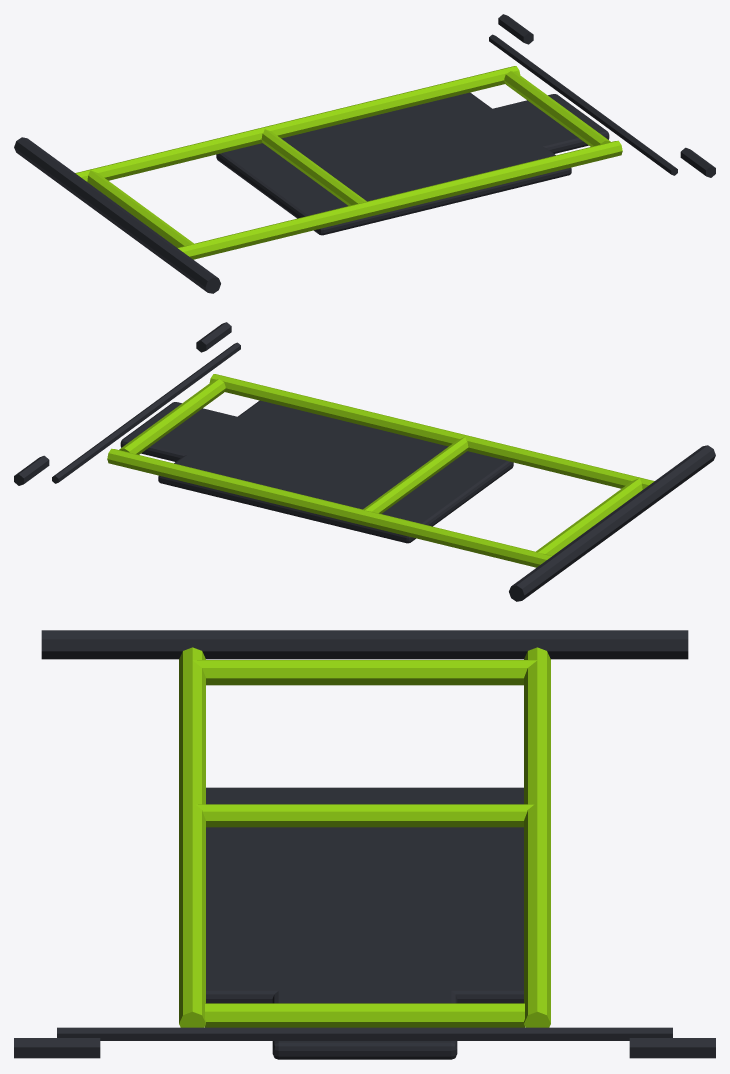
Rendered from frame.obj.
The picture shows the model from 3 angles, top to bottom: view 1: azimuth 30°, elevation 25°; view 2: azimuth 150°, elevation 25°; view 3: azimuth 270°, elevation 25°; orthographic projection. The views are drawn at different scales.
Parts seen in each view (by area): view 1: Cube; view 2: Cube; view 3: Cube.
Part boxes in pixels (box(x1,y1,x2,y2)): Cube: box(14, 14, 715, 293); Cube: box(14, 322, 715, 601); Cube: box(14, 630, 715, 1059).
Size of the model in its own units: 1.59 by 0.085 by 1.14.
